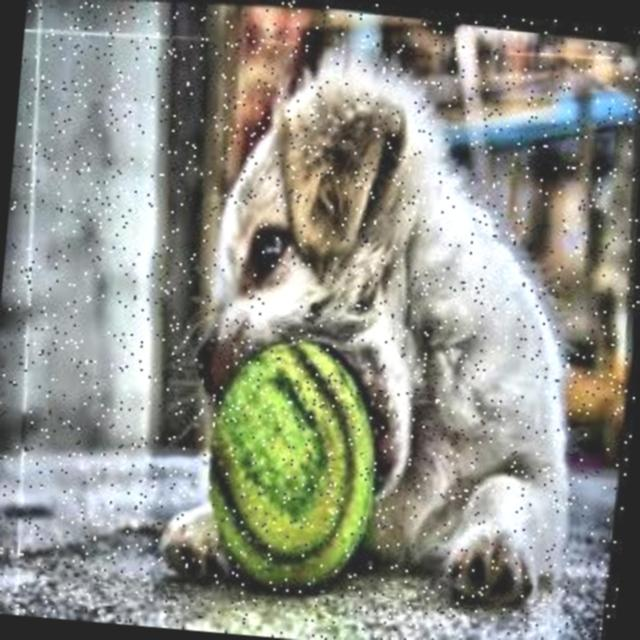tennis-ball: (172, 322, 412, 611)
